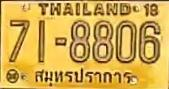0: (114, 20, 136, 63)
1: (37, 20, 45, 63)
6: (138, 20, 160, 64)
7: (8, 18, 29, 62)
8: (68, 20, 90, 63), (92, 20, 114, 63)
SPK: (32, 65, 135, 89)
